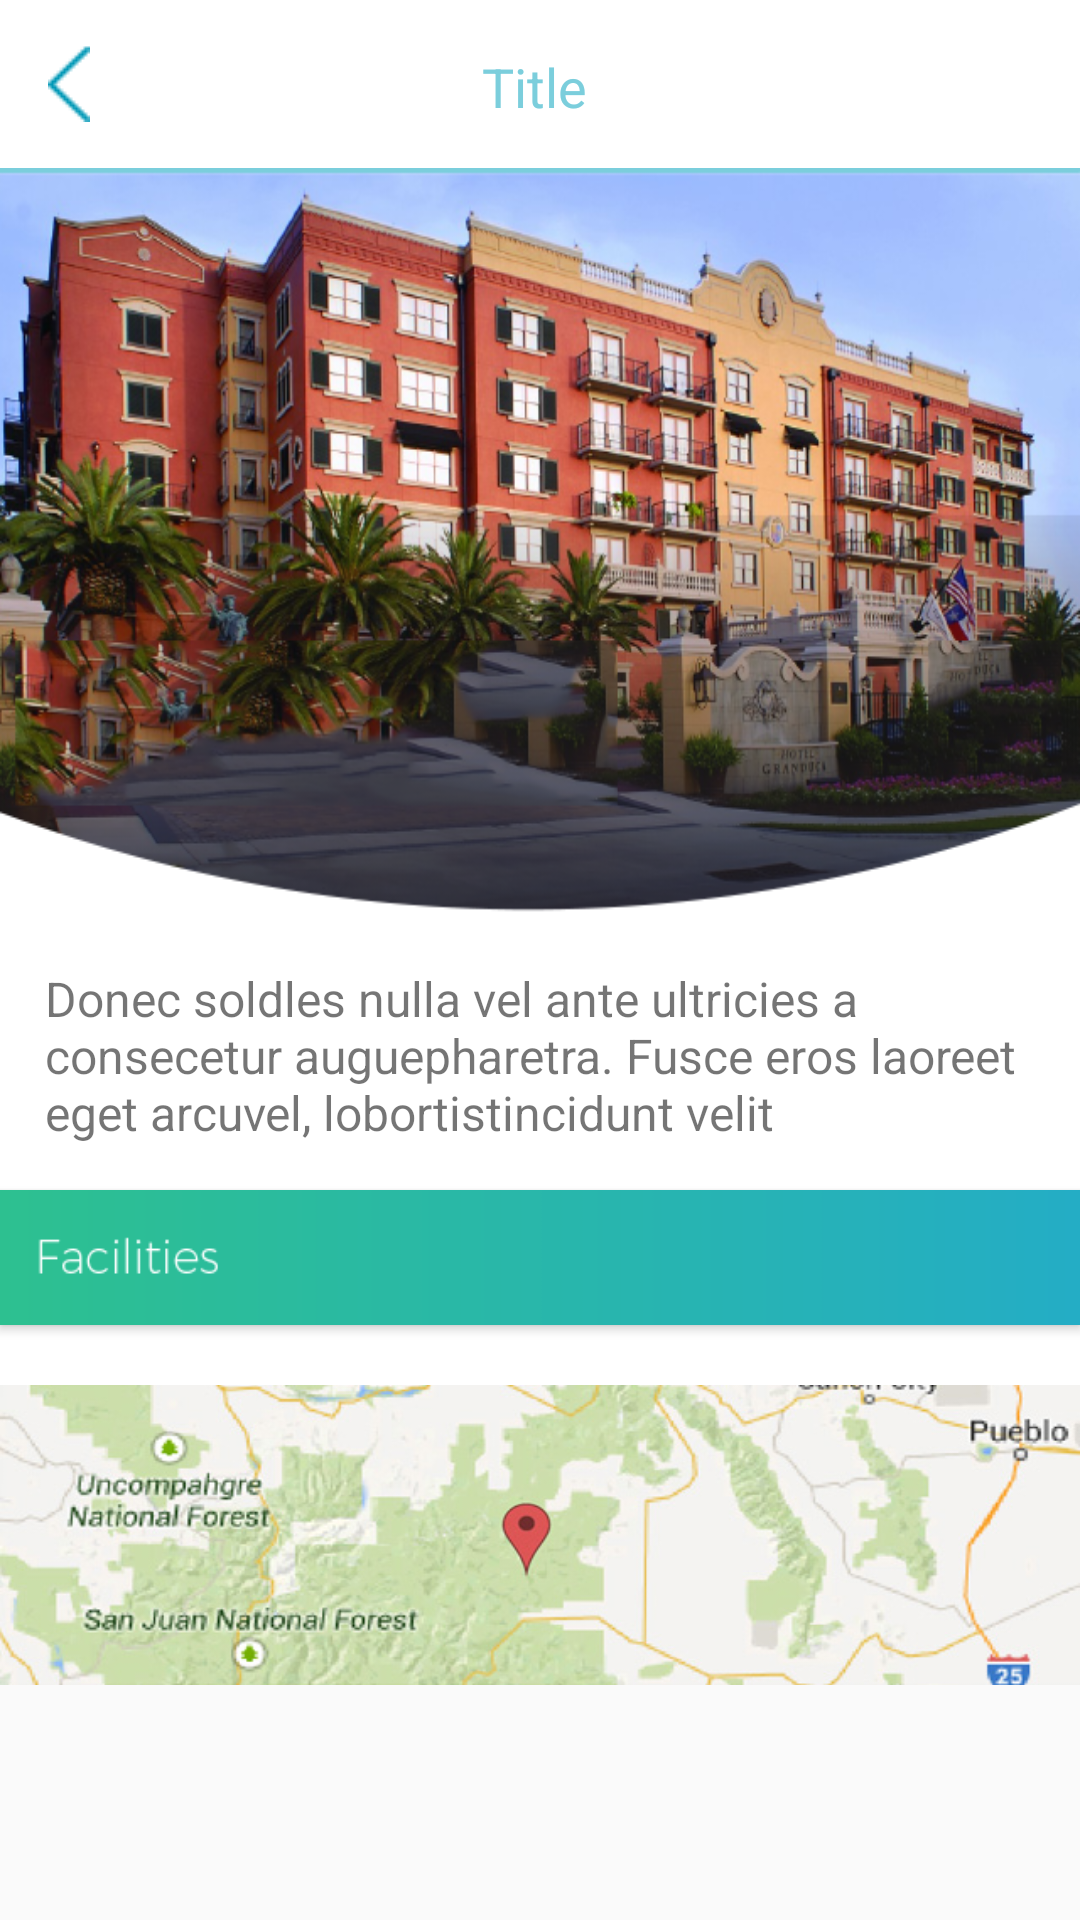

Where icons sit on this 1080px×1920px app screen, as detection(x1, y1, x2, y2):
left arrow: detection(48, 46, 90, 122)
